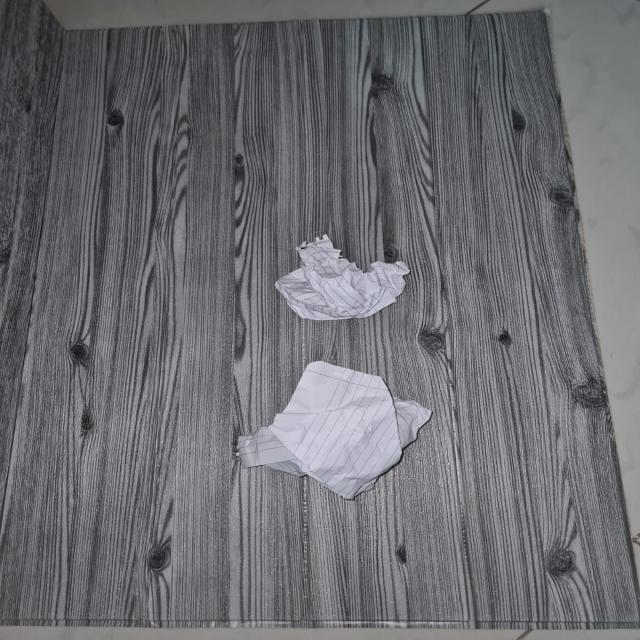Paper: (250, 360, 436, 490), (279, 232, 412, 322)
